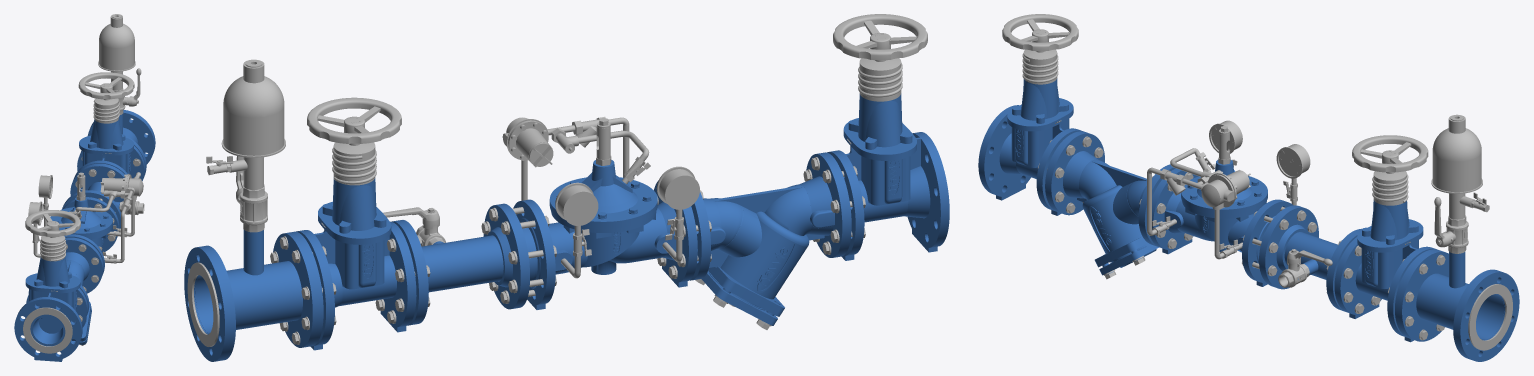
3 views of the same model, side by side, from view 1: azimuth 30°, elevation 25°; view 2: azimuth 150°, elevation 25°; view 3: azimuth 270°, elevation 25° (orthographic). The views are drawn at different scales.
Parts seen in each view (by area): view 1: Layer:0 Gebäude_Architekt Grundriss 1.003, Layer:0 Gebäude_Architekt Grundriss 1.004, Layer:1 Gebäude_Architekt Grundriss 2.003, Layer:0 Gebäude_Architekt Grundriss 1.011, Layer:1 Gebäude_Architekt Grundriss 2.001, Layer:0 Gebäude_Architekt Grundriss 1.005, Layer:0 Gebäude_Architekt Grundriss 1.009, Object01, Layer:1 Gebäude_Architekt Grundriss 2.005, Object10, Object12, Object11 (+3 smaller); view 2: Layer:1 Gebäude_Architekt Grundriss 2.003, Layer:1 Gebäude_Architekt Grundriss 2.001, Layer:0 Gebäude_Architekt Grundriss 1.003, Layer:0 Gebäude_Architekt Grundriss 1.004, Layer:0 Gebäude_Architekt Grundriss 1.011, Layer:0 Gebäude_Architekt Grundriss 1.008, Layer:0 Gebäude_Architekt Grundriss 1, Layer:1 Gebäude_Architekt Grundriss 2.004, Layer:0 Gebäude_Architekt Grundriss 1.009, Layer:0 Gebäude_Architekt Grundriss 1.007, Object01, Object10 (+8 smaller); view 3: Layer:1 Gebäude_Architekt Grundriss 2.003, Layer:0 Gebäude_Architekt Grundriss 1.003, Layer:1 Gebäude_Architekt Grundriss 2.001, Layer:0 Gebäude_Architekt Grundriss 1.004, Layer:0 Gebäude_Architekt Grundriss 1.011, Layer:0 Gebäude_Architekt Grundriss 1.008, Layer:0 Gebäude_Architekt Grundriss 1.009, Layer:0 Gebäude_Architekt Grundriss 1.007, Layer:1 Gebäude_Architekt Grundriss 2.004, Object01, Object10, Layer:0 Gebäude_Architekt Grundriss 1.012 (+8 smaller).
Part boxes in pixels (x1,y1,x2,y2): Layer:0 Gebäude_Architekt Grundriss 1.003: (14, 210, 87, 361); Layer:0 Gebäude_Architekt Grundriss 1.004: (74, 72, 145, 181); Layer:1 Gebäude_Architekt Grundriss 2.003: (28, 172, 143, 273); Layer:0 Gebäude_Architekt Grundriss 1.011: (98, 14, 135, 71); Layer:1 Gebäude_Architekt Grundriss 2.001: (65, 237, 103, 345); Layer:0 Gebäude_Architekt Grundriss 1.005: (23, 307, 72, 353); Layer:0 Gebäude_Architekt Grundriss 1.009: (87, 110, 155, 164); Object01: (33, 190, 134, 262); Layer:1 Gebäude_Architekt Grundriss 2.005: (70, 163, 124, 212); Object10: (32, 190, 131, 263); Object12: (93, 84, 119, 123); Object11: (40, 222, 65, 261); Layer:1 Gebäude_Architekt Grundriss 2.003: (502, 117, 699, 309); Layer:1 Gebäude_Architekt Grundriss 2.001: (690, 152, 851, 329); Layer:0 Gebäude_Architekt Grundriss 1.003: (827, 14, 949, 260); Layer:0 Gebäude_Architekt Grundriss 1.004: (296, 97, 416, 350); Layer:0 Gebäude_Architekt Grundriss 1.011: (221, 59, 285, 157); Layer:0 Gebäude_Architekt Grundriss 1.008: (195, 261, 302, 333); Layer:0 Gebäude_Architekt Grundriss 1: (421, 235, 503, 292); Layer:1 Gebäude_Architekt Grundriss 2.004: (483, 203, 537, 309); Layer:0 Gebäude_Architekt Grundriss 1.009: (184, 245, 235, 361); Layer:0 Gebäude_Architekt Grundriss 1.007: (273, 231, 323, 347); Object01: (521, 117, 682, 278); Object10: (551, 116, 683, 256); Layer:1 Gebäude_Architekt Grundriss 2.003: (1150, 120, 1310, 286); Layer:0 Gebäude_Architekt Grundriss 1.003: (978, 14, 1083, 215); Layer:1 Gebäude_Architekt Grundriss 2.001: (1045, 131, 1175, 279); Layer:0 Gebäude_Architekt Grundriss 1.004: (1334, 135, 1436, 342); Layer:0 Gebäude_Architekt Grundriss 1.011: (1431, 114, 1482, 193); Layer:0 Gebäude_Architekt Grundriss 1.008: (1416, 273, 1504, 339); Layer:0 Gebäude_Architekt Grundriss 1.009: (1453, 269, 1519, 361); Layer:0 Gebäude_Architekt Grundriss 1.007: (1395, 249, 1448, 341); Layer:1 Gebäude_Architekt Grundriss 2.004: (1259, 205, 1318, 289); Object01: (1147, 148, 1296, 259); Object10: (1152, 152, 1297, 258); Layer:0 Gebäude_Architekt Grundriss 1.012: (1468, 284, 1512, 350).
Size of the model in its own units: 1.1 by 0.7016 by 1.28.
